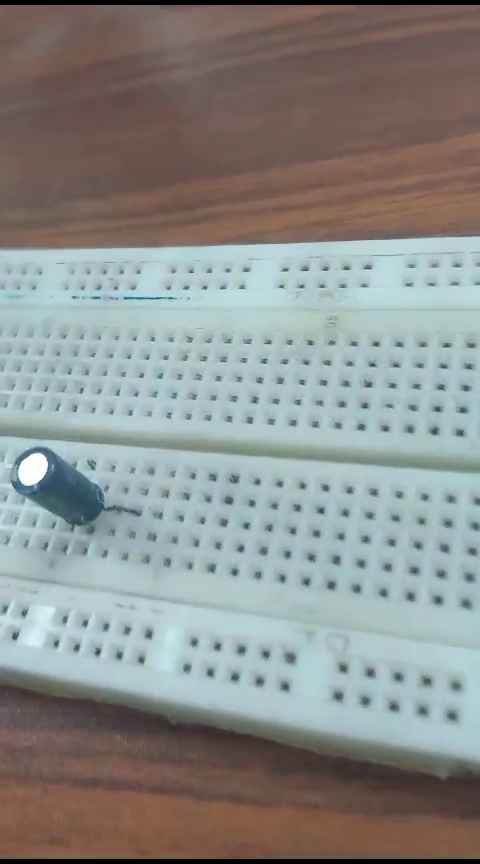capacitor: (10, 444, 118, 533)
